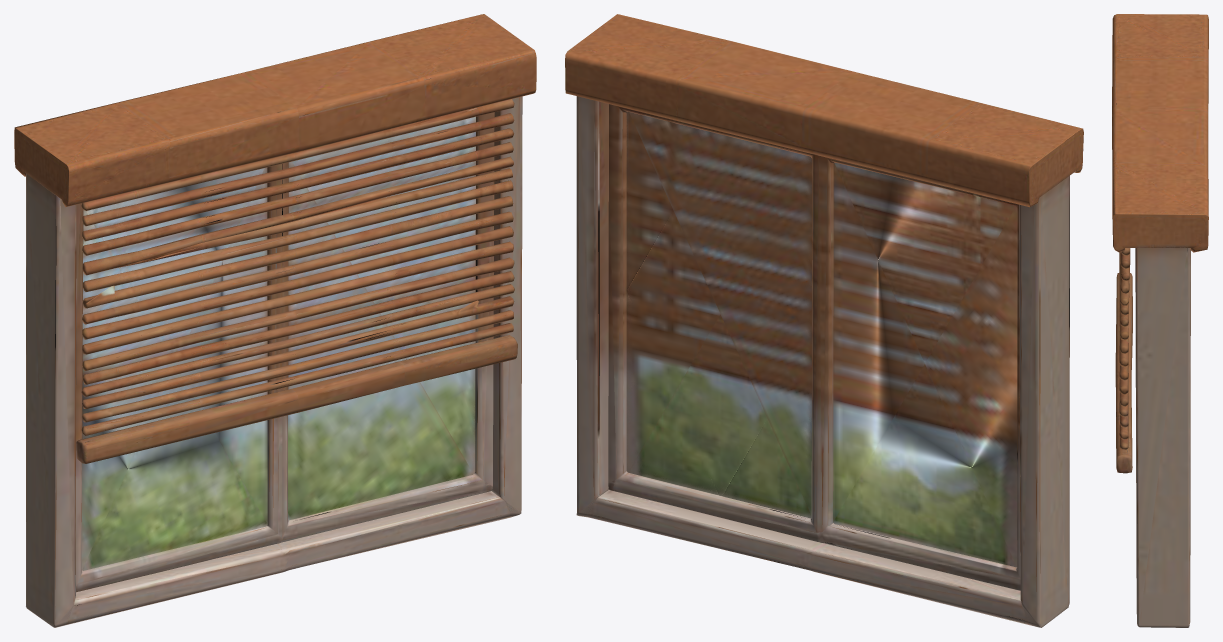
The model's file is wooden_blinds.glb.
3 views of the same model, side by side, from view 1: azimuth 30°, elevation 25°; view 2: azimuth 150°, elevation 25°; view 3: azimuth 270°, elevation 25° (orthographic). The views are drawn at different scales.
Visible parts, largest first — view 1: geometry_0; view 2: geometry_0; view 3: geometry_0.
Part boxes in pixels (left/top/right/bottom): geometry_0: left=14, top=14, right=536, bottom=627; geometry_0: left=565, top=14, right=1083, bottom=627; geometry_0: left=1112, top=14, right=1208, bottom=627.
Bounding box in the file's own units: 1 × 0.9722 × 0.2053.
Materials: 1 (1 with a texture image).
